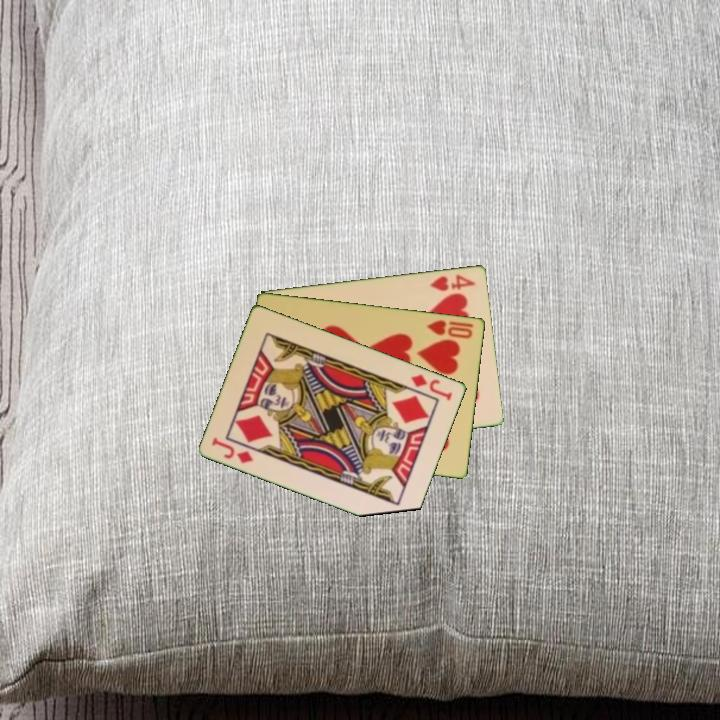10h: (423, 316, 476, 341)
4h: (426, 271, 478, 294)
Jd: (407, 370, 456, 403), (208, 434, 256, 467)
